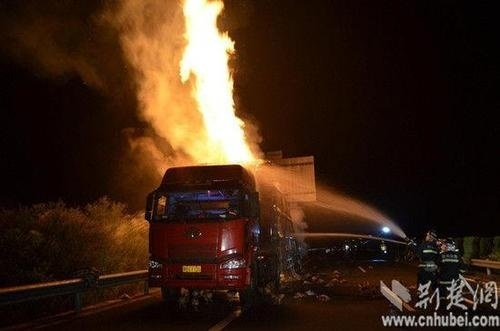fire: (176, 0, 256, 168)
